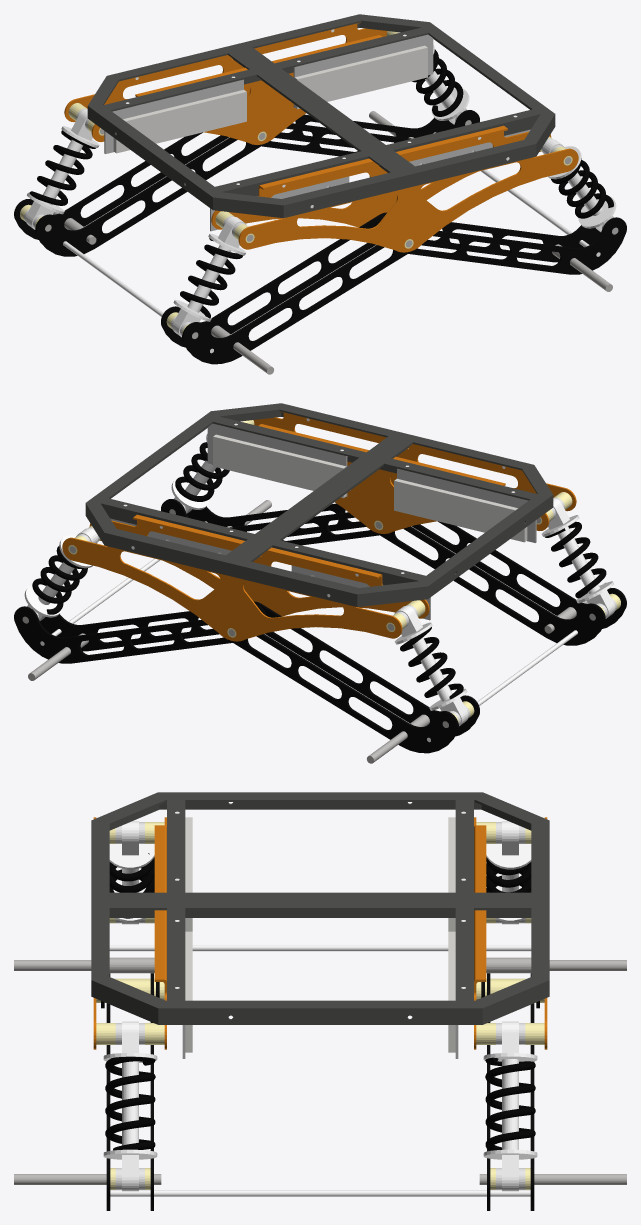
3 views of the same model, one above another, from view 1: azimuth 30°, elevation 25°; view 2: azimuth 150°, elevation 25°; view 3: azimuth 270°, elevation 25° (orthographic). The views are drawn at different scales.
Parts seen in each view (by area): view 1: node46, node47, node74, node110, node67, node43, node41, node83, node75, node33, node82, node111 (+33 smaller); view 2: node82, node83, node111, node75, node104, node39, node45, node47, node110, node33, node46, node74 (+33 smaller); view 3: node25, node18, node33, node26, node114, node78, node0, node1, node79, node115, node47, node83 (+27 smaller).
Boxes of the visible parts, x1,y1,x2,y2 form: node46: (238,148,578,252); node47: (211,125,551,229); node74: (182,245,411,364); node110: (35,137,264,256); node67: (408,217,626,274); node43: (294,45,427,109); node41: (113,90,246,153); node83: (91,35,382,144); node75: (161,212,386,347); node33: (87,105,221,209); node82: (64,22,387,122); node111: (14,132,228,239); node82: (62,537,402,641); node83: (89,514,429,618); node111: (229,634,458,753); node75: (376,526,605,645); node104: (14,606,232,663); node39: (213,434,346,498); node45: (394,478,527,542); node47: (258,424,549,533); node110: (254,601,479,736); node33: (419,494,553,598); node46: (253,411,576,511); node74: (412,521,626,628); node25: (158,1000,482,1024); node18: (92,900,548,917); node33: (159,792,481,809); node26: (92,892,548,900); node114: (483,1021,537,1191); node78: (103,1021,157,1191); node0: (110,1190,530,1196); node1: (109,945,531,951); node79: (105,1056,155,1150); node115: (485,1057,535,1150); node47: (154,817,166,1049); node83: (474,817,486,1049).
Size of the model in its own units: 0.5465 by 0.503 by 0.1724.
